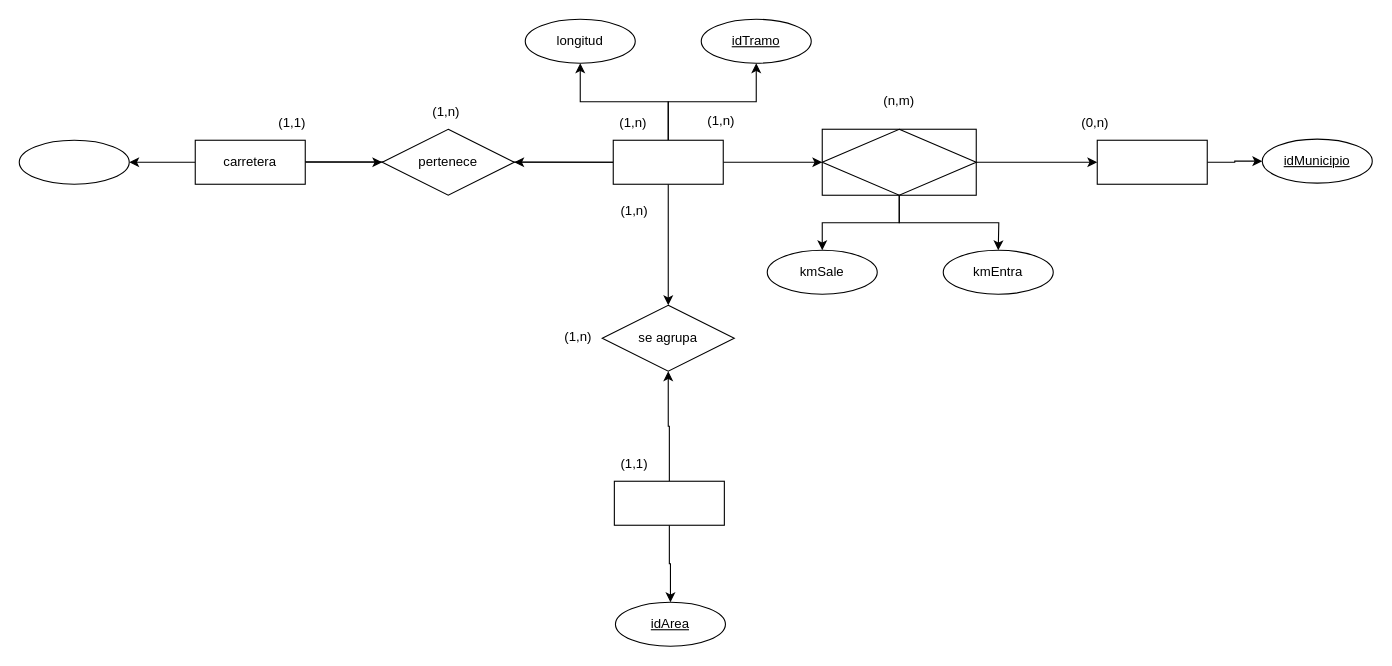
Image size: 1392x666. Some labels were removed from this diagram. The box of each missing label's shape, as (x1, y1, x2, y2) in pixels:
area: (613, 480, 724, 525)
idCarretera: (18, 139, 129, 184)
pasa por: (821, 128, 976, 195)
tramo: (612, 139, 723, 184)
términoMunicipal: (1096, 139, 1207, 184)
